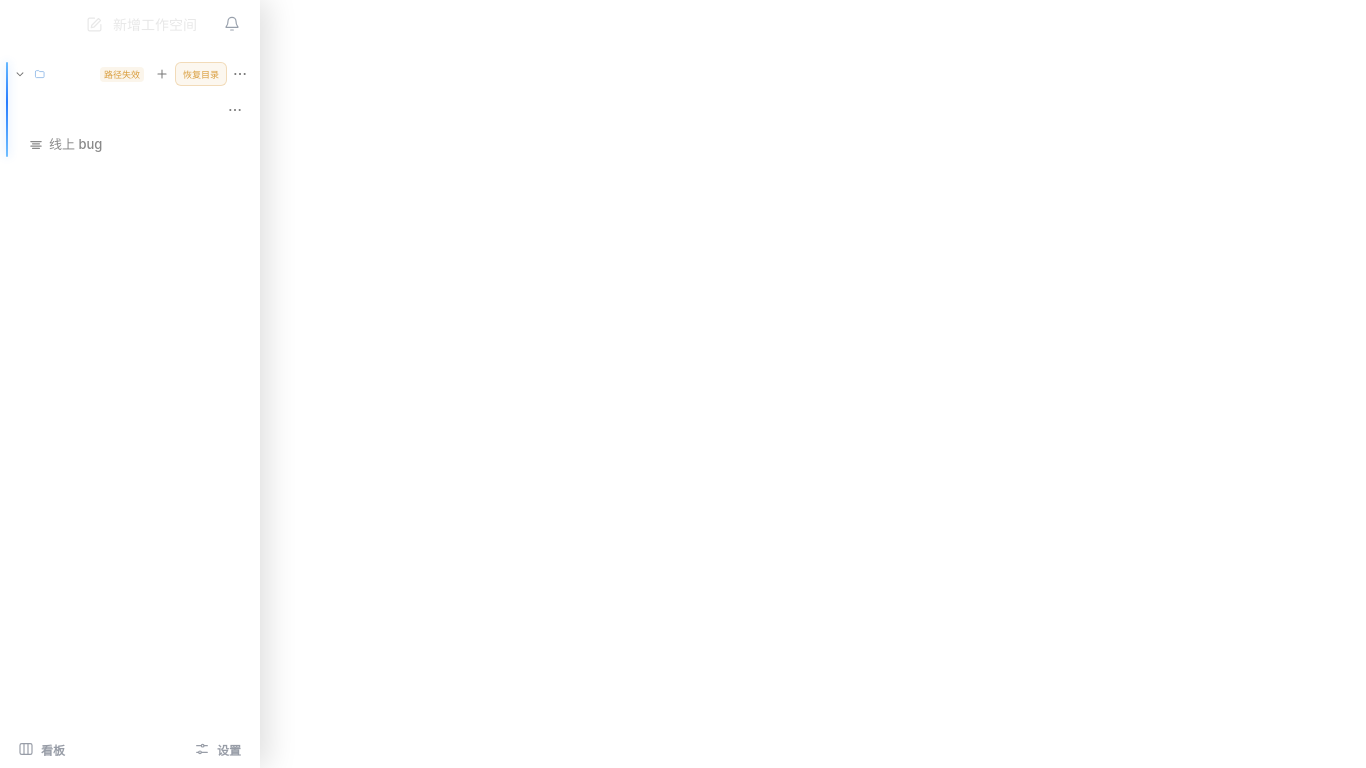
Test case: Workspace and Task navigation › keeps the reference product rename dialog open and explains an empty Task name
Click the button named "事项菜单：事项 A" at (235, 110), box [224,99,246,121]
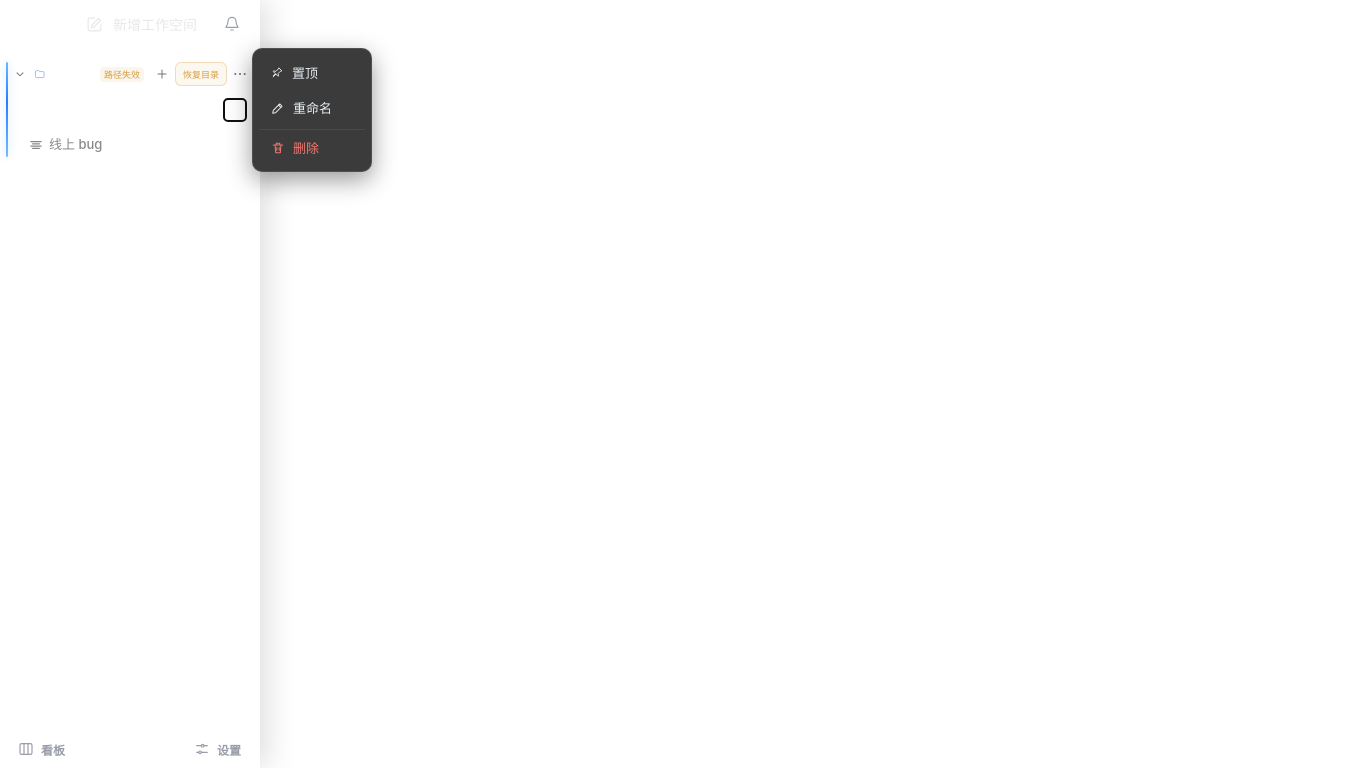
Click the menu item "重命名" at (312, 108), box [259,90,365,125]
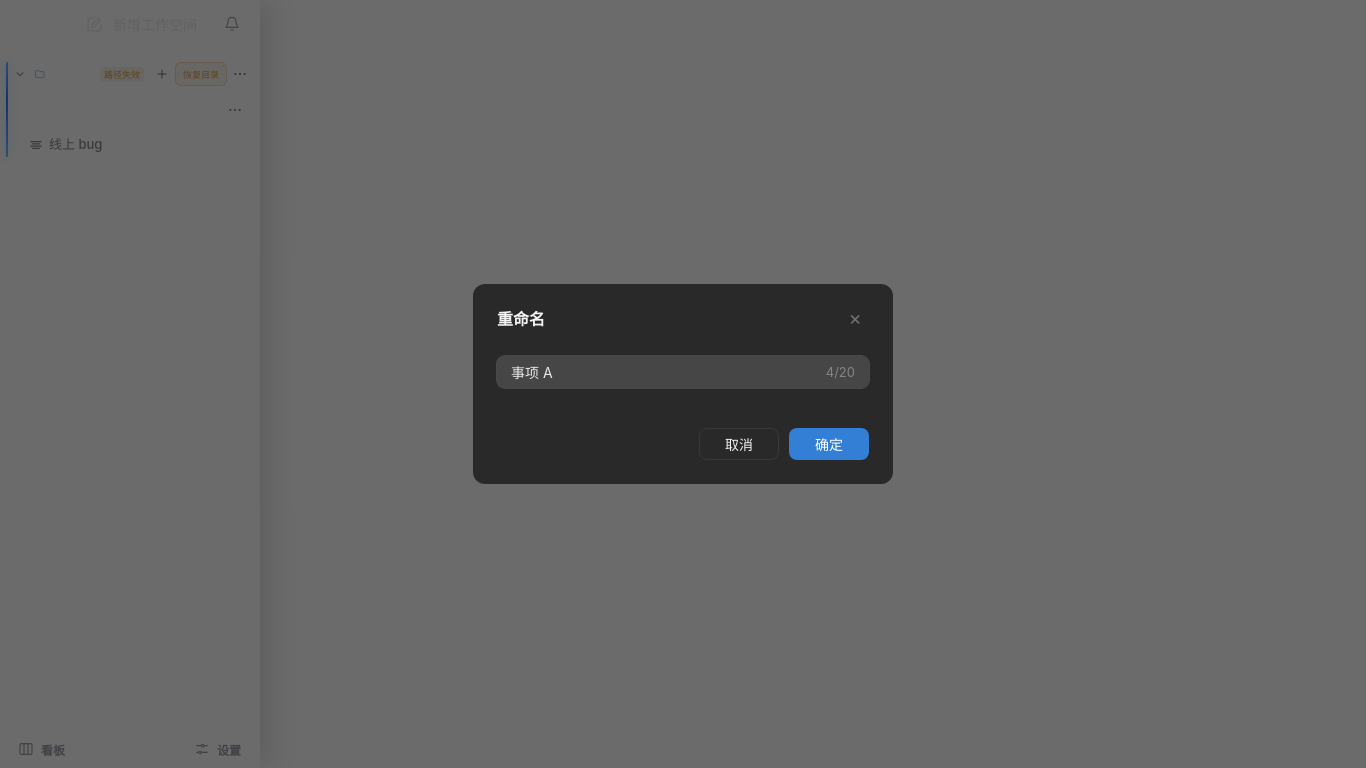
Clear the field named "事项名称" at (683, 372), box [497,356,869,388]
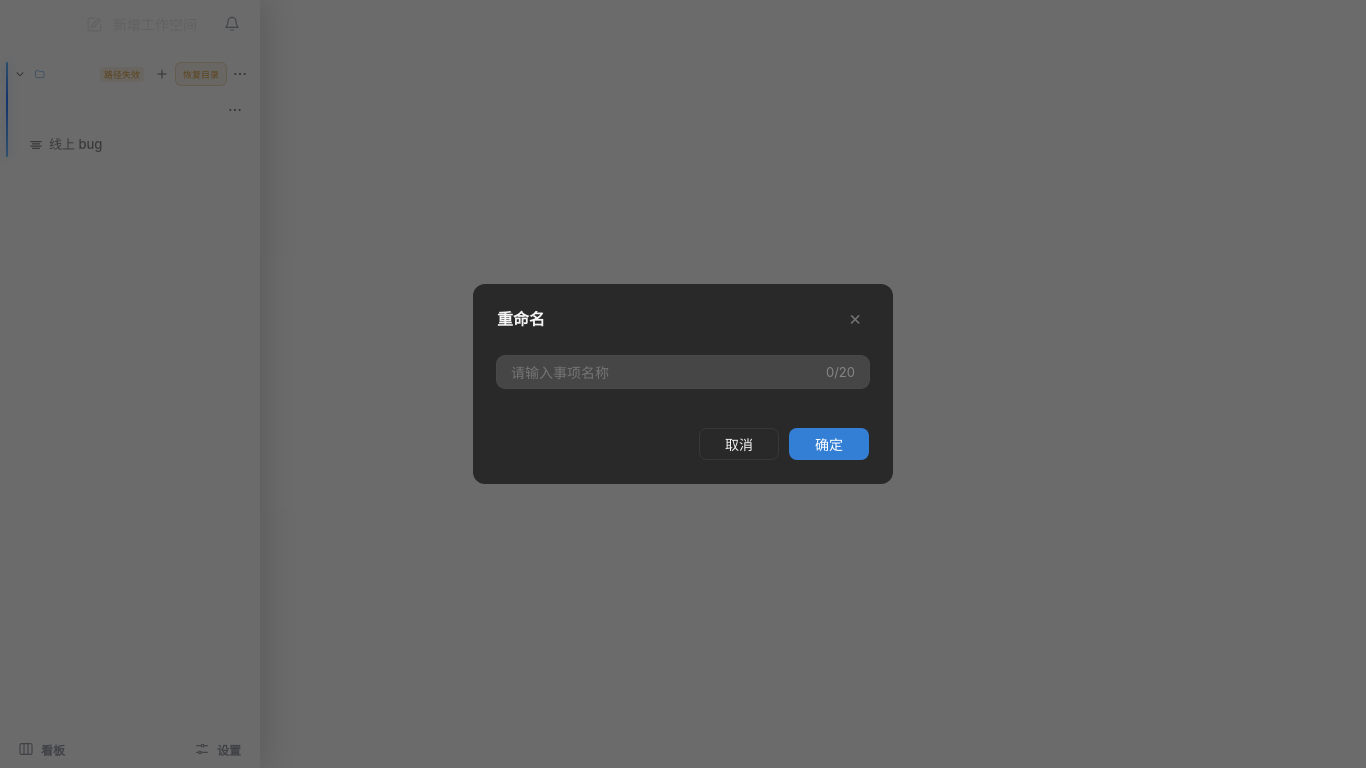
Click the button "确定" at (829, 444), box [789,428,869,460]
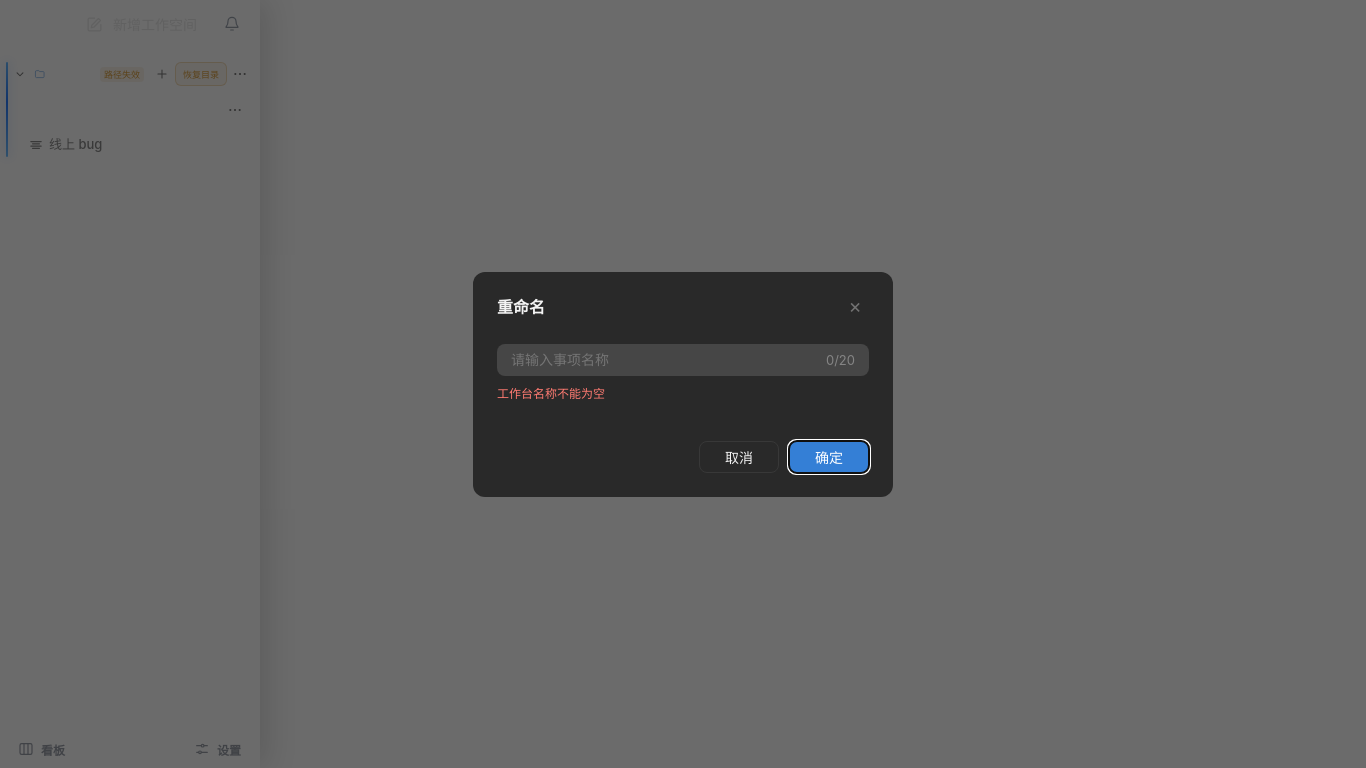
Expected: the text "工作台名称不能为空" is shown, [497,386,605,400]
